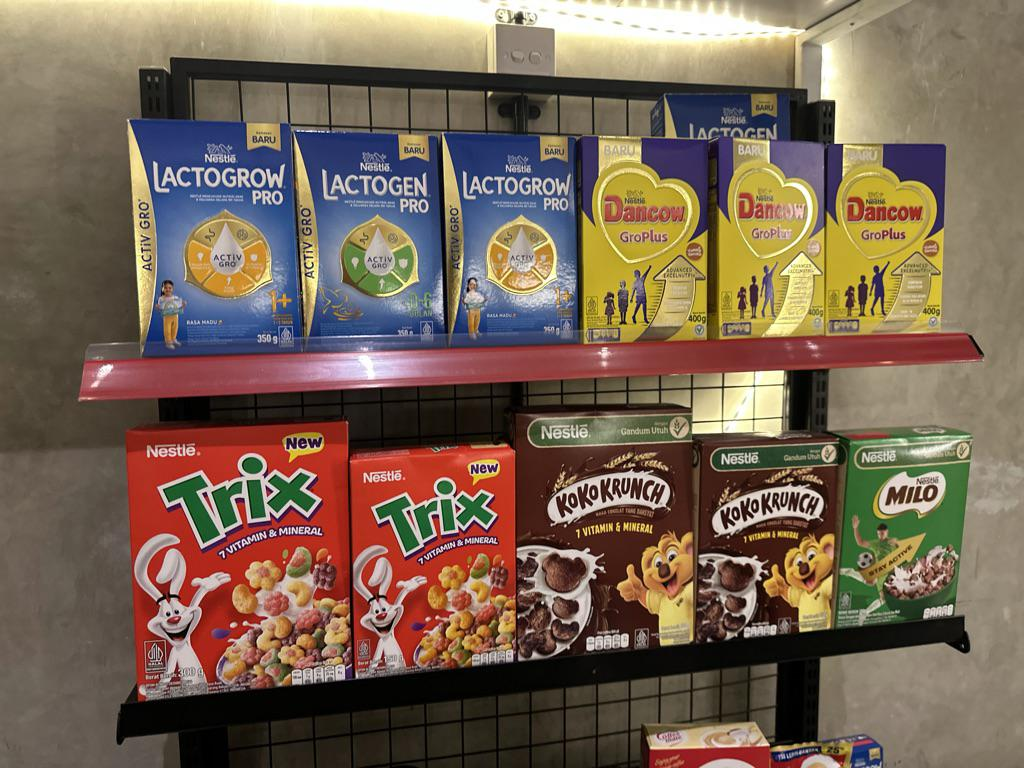LACTOGEN PRO 0-6 mo 24x350g ID: (288, 126, 446, 348)
LACTOGROW PRO 1+ Honey 24x350g ID: (128, 113, 304, 354), (440, 131, 583, 348)
